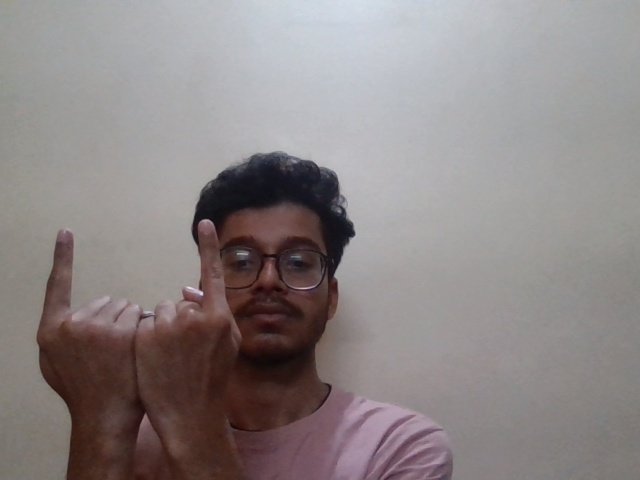when: (41, 213, 247, 413)
